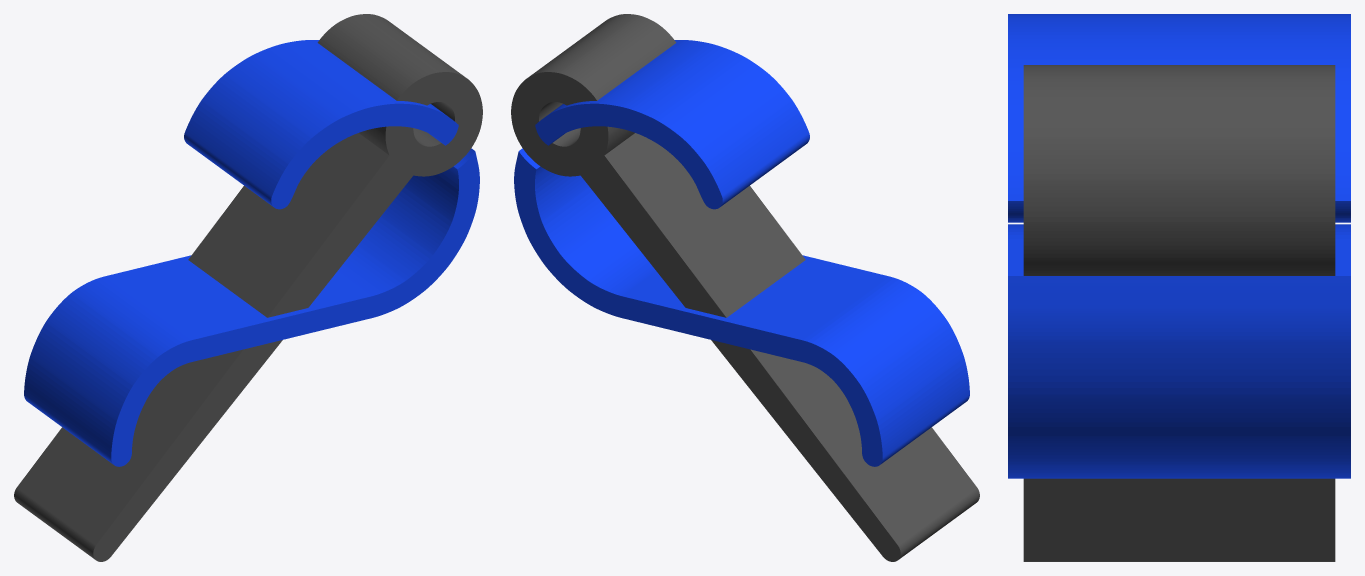
Rendered from U+1FAA1.obj.
3 renders of one model, left to right at view 1: azimuth 30°, elevation 25°; view 2: azimuth 150°, elevation 25°; view 3: azimuth 270°, elevation 25°, orthographic. The views are drawn at different scales.
Visible parts, largest first — view 1: U+1FAA1_layer01_obj00, U+1FAA1_layer00_obj00; view 2: U+1FAA1_layer01_obj00, U+1FAA1_layer00_obj00; view 3: U+1FAA1_layer01_obj00, U+1FAA1_layer00_obj00.
Boxes of the visible parts, x1,y1,x2,y2 form: U+1FAA1_layer01_obj00: (24, 40, 479, 466); U+1FAA1_layer00_obj00: (14, 14, 482, 561); U+1FAA1_layer01_obj00: (514, 40, 969, 466); U+1FAA1_layer00_obj00: (511, 14, 979, 561); U+1FAA1_layer01_obj00: (1008, 14, 1350, 478); U+1FAA1_layer00_obj00: (1023, 65, 1335, 561).
Bounding box in the file's own units: 0.5678 × 0.5677 × 0.22.
